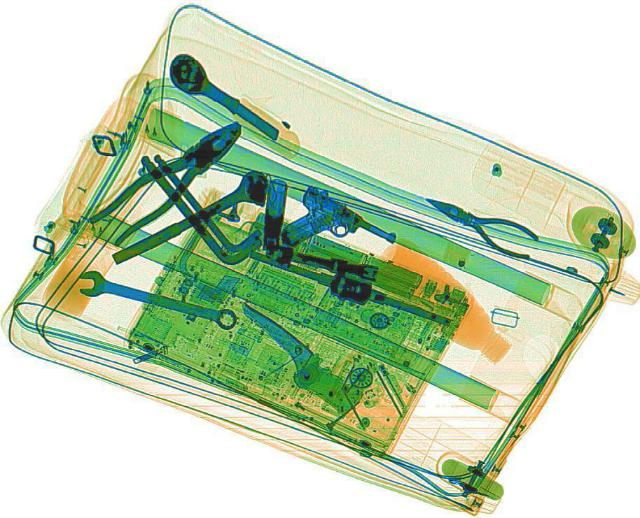Gun: (262, 180, 404, 280)
Pliers: (80, 110, 260, 245), (412, 183, 546, 261)
Wrench: (72, 266, 242, 335)
